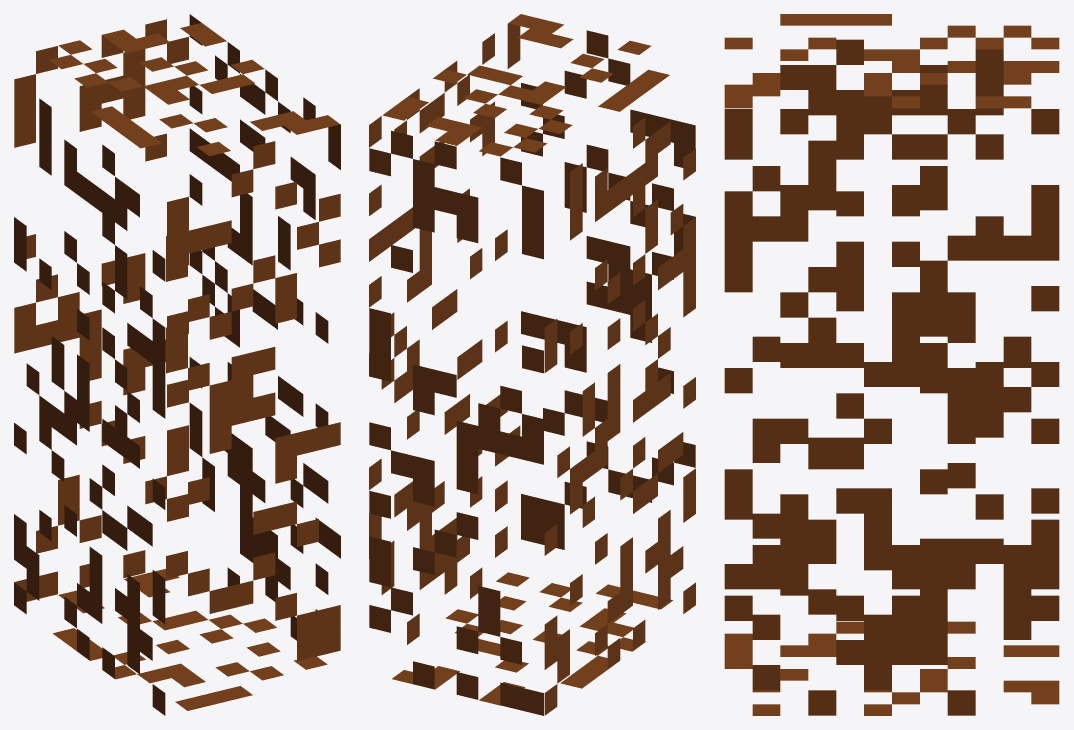
Rendered from crate_1.dae.
3 renders of one model, left to right at view 1: azimuth 30°, elevation 25°; view 2: azimuth 150°, elevation 25°; view 3: azimuth 270°, elevation 25°, orthographic. The views are drawn at different scales.
Parts seen in each view (by area): view 1: node1; view 2: node1; view 3: node1.
Boxes of the visible parts, x1,y1,x2,y2 form: node1: (14, 14, 340, 715); node1: (369, 14, 695, 715); node1: (724, 14, 1059, 715).
Bounding box in the file's own units: 2.01 × 3.01 × 6.01.
